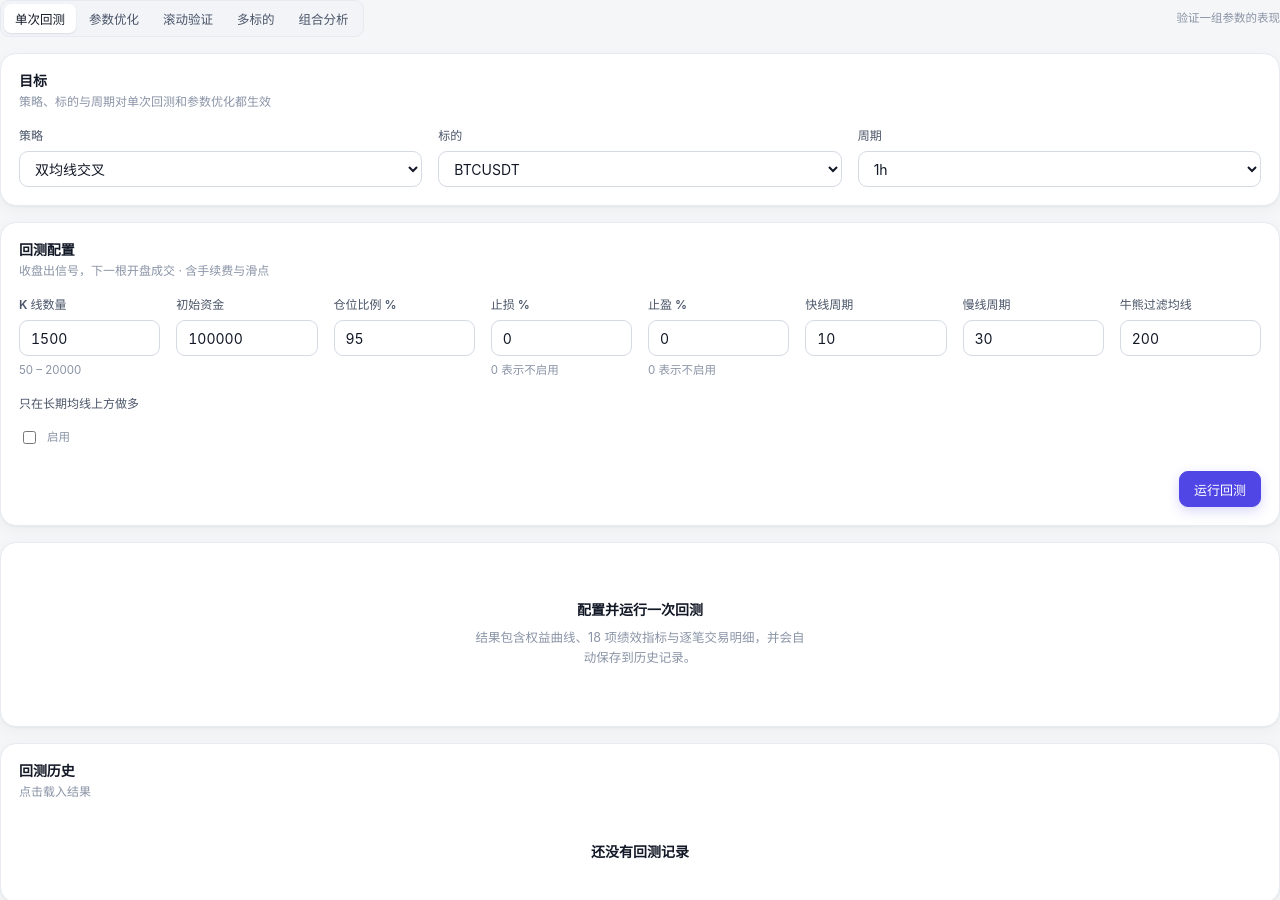
BacktestPage strategy handoff › resets to the new strategy's defaults when the user switches strategy
This screenshot has width=1280, height=900.
Expected: the number field labelled "快线周期" holds "10", top-left (805, 320), bottom-right (947, 356)
Select "RSI 均值回归" in the dropdown labelled "策略". click: (221, 169)
box: top-left (19, 151), bottom-right (422, 187)
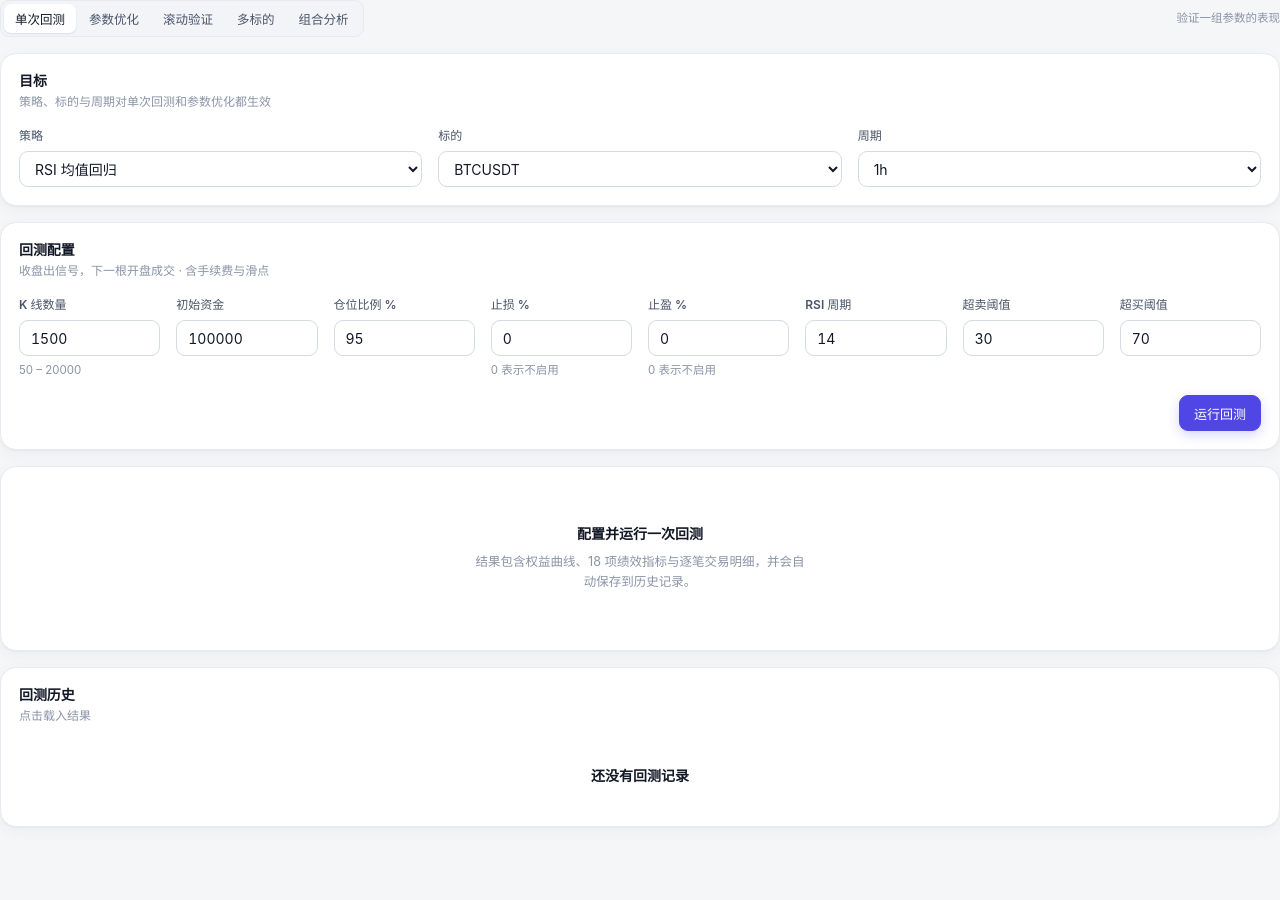
Result: the number field labelled "RSI 周期" holds "14" at top-left (805, 320), bottom-right (947, 356)
Result: the text labelled "快线周期" is gone
